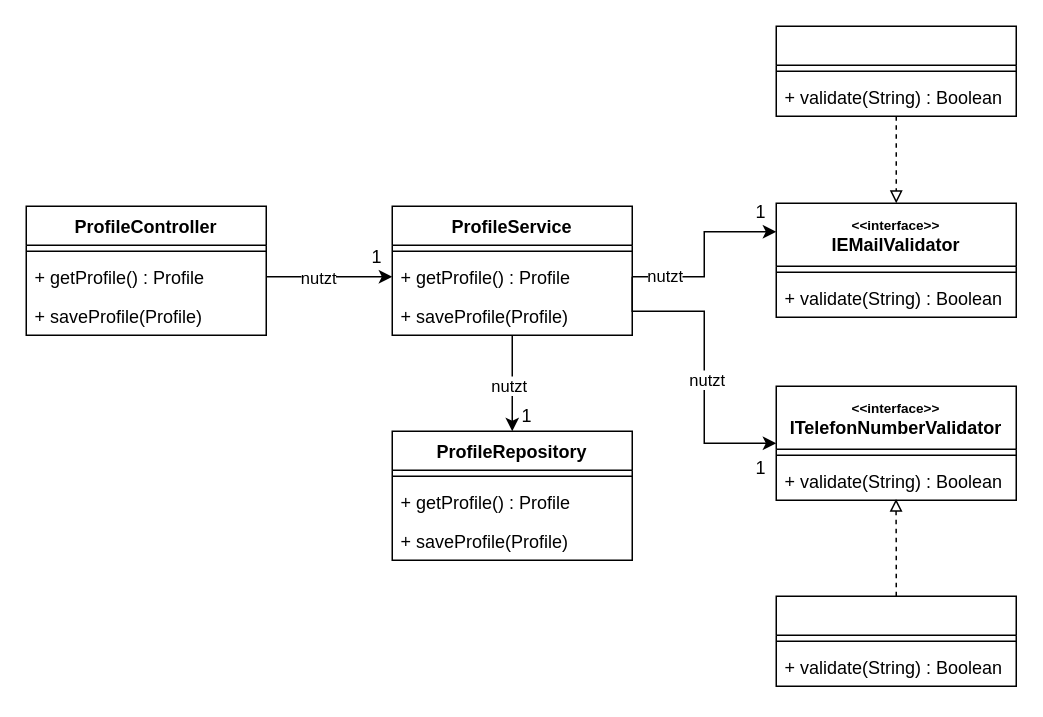
This 1043x717 diagram has some shape labels left out. The shapes that lost their labels are listed below. From the top down, each one's box as (x1, y1, x2, y2) in pixels, then its label:
(775, 25, 1016, 116): EMailValidator
(775, 595, 1016, 686): TelefonNumberValidator
